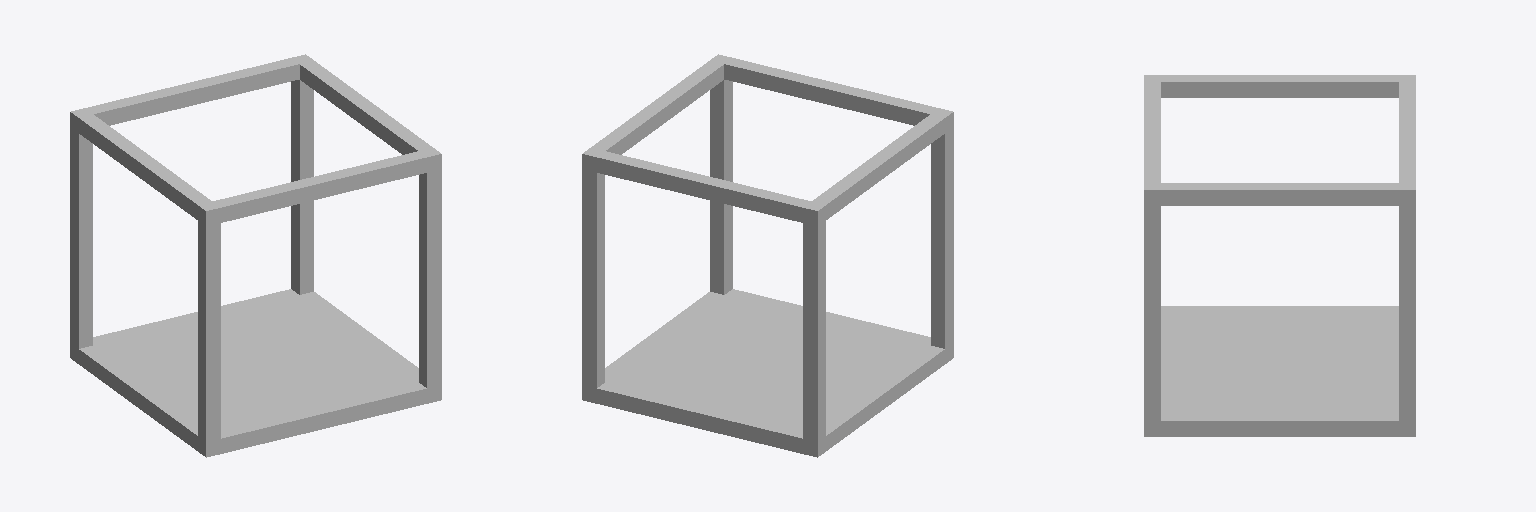
The model's file is atomicConstructor.obj.
3 renders of one model, left to right at view 1: azimuth 30°, elevation 25°; view 2: azimuth 150°, elevation 25°; view 3: azimuth 270°, elevation 25°, orthographic.
Parts seen in each view (by area): view 1: BasePlate, SupportNegXNegZ, SupportPosXNegZ, UpperNegZ, SupportNegXPosZ, BaseNegZ, UpperPosZ, SupportPosXPosZ, UpperNegX, BaseNegX, UpperPosX, BasePosX (+1 smaller); view 2: BasePlate, SupportNegXPosZ, SupportPosXPosZ, UpperPosZ, SupportNegXNegZ, BasePosZ, UpperNegZ, SupportPosXNegZ, UpperNegX, BaseNegX, UpperPosX, BasePosX (+1 smaller); view 3: BasePlate, BasePosX, UpperNegX, UpperPosX, SupportPosXPosZ, SupportPosXNegZ, BaseNegX, UpperNegZ, UpperPosZ.
Part boxes in pixels (x1,y1,x2,y2): BasePlate: (94,295,417,429); SupportNegXNegZ: (198,221,220,441); SupportPosXNegZ: (419,169,441,387); UpperNegZ: (213,151,426,222); SupportNegXPosZ: (70,127,92,348); BaseNegZ: (221,382,426,453); UpperPosZ: (85,58,299,125); SupportPosXPosZ: (291,80,313,294); UpperNegX: (79,114,211,219); BaseNegX: (79,345,197,450); UpperPosX: (300,61,432,154); BasePosX: (300,292,418,381); BasePlate: (606,295,929,429); SupportNegXPosZ: (803,221,825,441); SupportPosXPosZ: (582,169,604,387); UpperPosZ: (597,151,810,222); SupportNegXNegZ: (931,127,953,348); BasePosZ: (597,382,802,453); UpperNegZ: (724,58,938,125); SupportPosXNegZ: (710,80,732,294); UpperNegX: (812,114,944,219); BaseNegX: (826,345,944,450); UpperPosX: (591,61,723,154); BasePosX: (605,292,723,381); BasePlate: (1161,314,1398,413); BasePosX: (1161,414,1398,436); UpperNegX: (1161,75,1398,97); UpperPosX: (1161,183,1398,205); SupportPosXPosZ: (1399,206,1415,420); SupportPosXNegZ: (1144,206,1160,420); BaseNegX: (1161,306,1398,313); UpperNegZ: (1144,82,1160,182); UpperPosZ: (1399,82,1415,182).
Bounding box in the file's own units: 2 × 2 × 2.